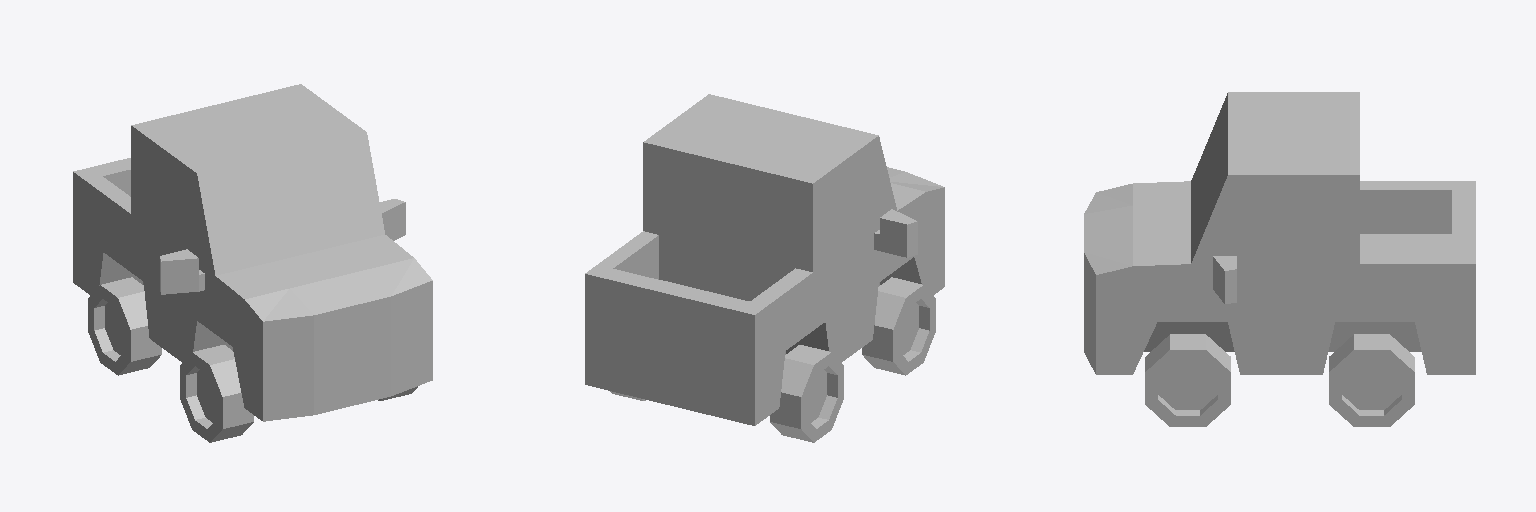
File: truck.obj
3 views of the same model, side by side, from view 1: azimuth 30°, elevation 25°; view 2: azimuth 150°, elevation 25°; view 3: azimuth 270°, elevation 25° (orthographic).
Visible parts, largest first — view 1: cube, cylinder, mirror_right, mirror_left; view 2: cube, cylinder, mirror_right; view 3: cube, cylinder, mirror_left.
Part boxes in pixels (left/top/right/bottom): cube: left=73, top=84, right=432, bottom=421; cylinder: left=88, top=277, right=417, bottom=442; mirror_right: left=160, top=249, right=204, bottom=294; mirror_left: left=380, top=199, right=405, bottom=240; cube: left=585, top=94, right=944, bottom=425; cylinder: left=610, top=277, right=935, bottom=442; mirror_right: left=874, top=209, right=917, bottom=257; cube: left=1084, top=92, right=1475, bottom=374; cylinder: left=1145, top=334, right=1414, bottom=426; mirror_left: left=1213, top=256, right=1236, bottom=303.
Bounding box in the file's own units: 1.44 × 1.38 × 2.